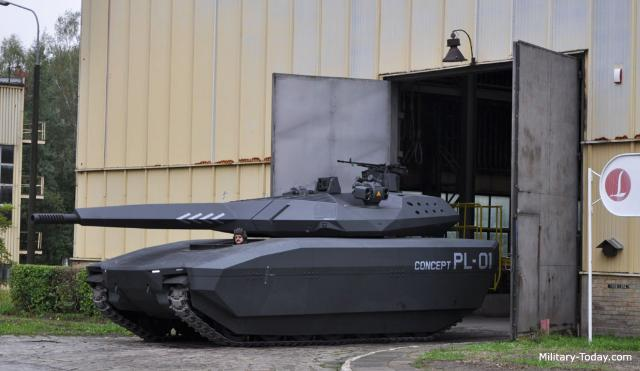other: (230, 225, 248, 245)
tank: (92, 171, 498, 336)
